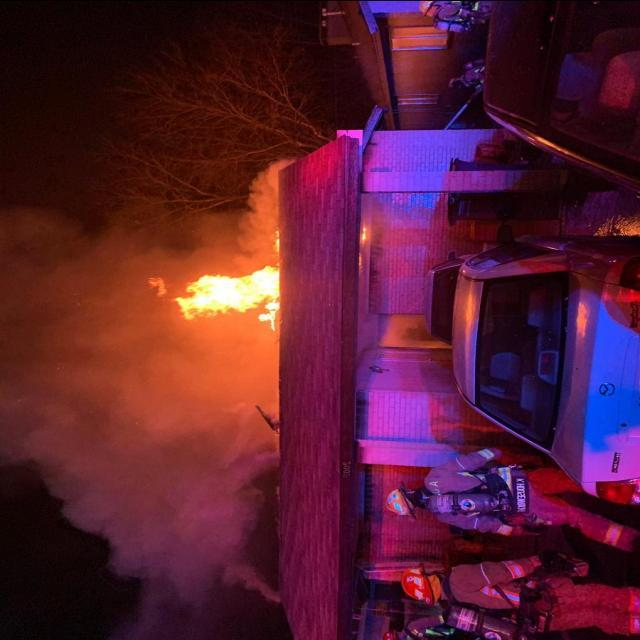Fire: (144, 231, 282, 330)
